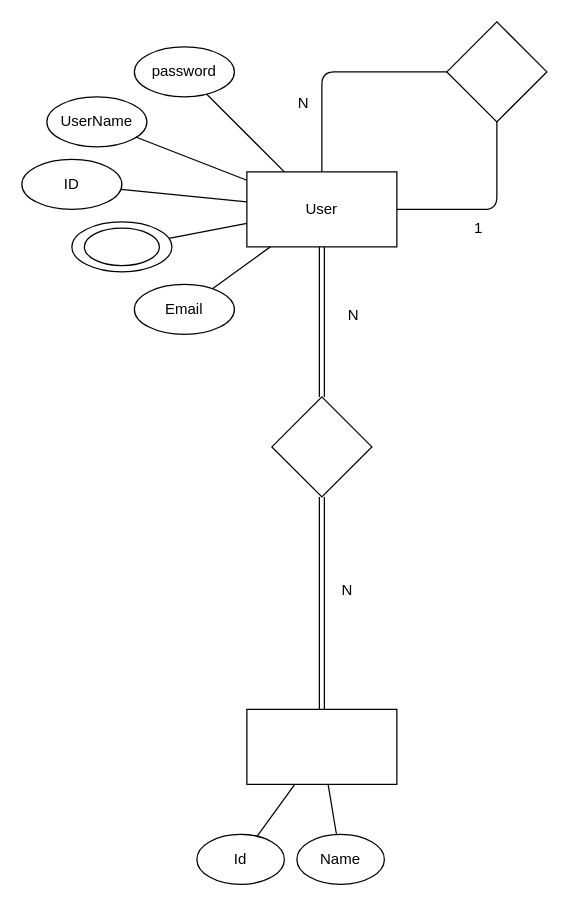
Image size: 569x906. Some labels were removed from this diagram. Each missing label, with the centre of its shape:
"Create" belongs at (x=496, y=71).
"is" belongs at (x=321, y=446).
"Phone" belongs at (x=121, y=246).
"Role" belongs at (x=321, y=746).
